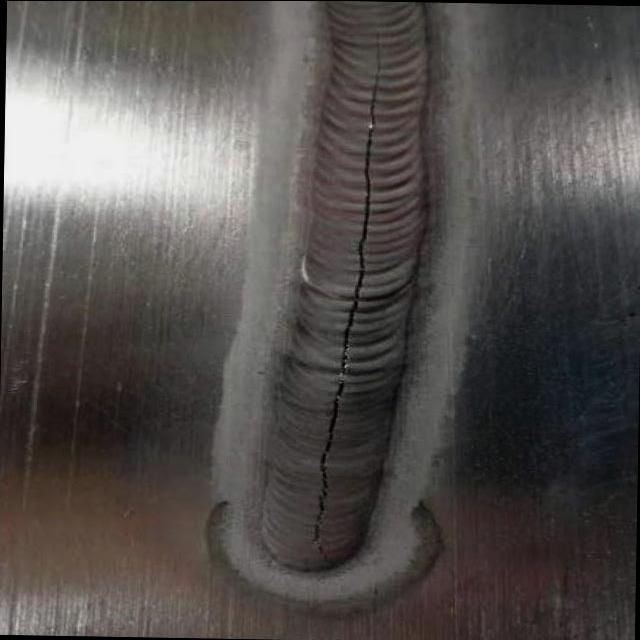defect: (307, 29, 381, 568)
